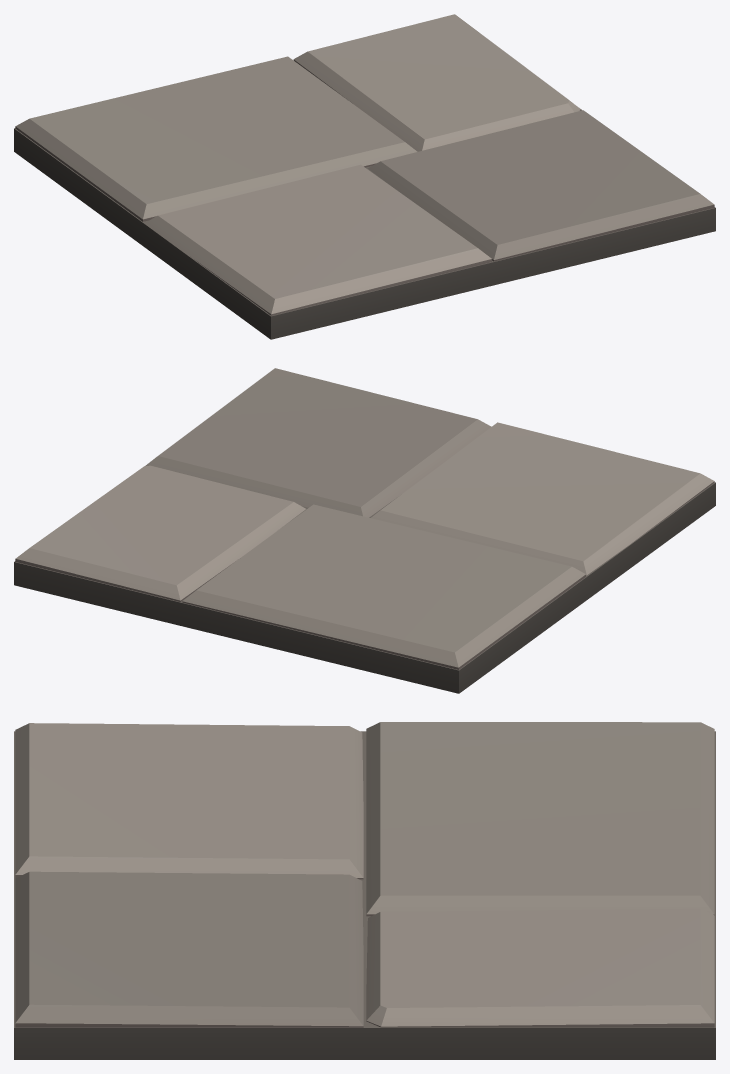
The model's file is floor_flagstones_small_A.glb.
The picture shows the model from 3 angles, top to bottom: view 1: azimuth 30°, elevation 25°; view 2: azimuth 150°, elevation 25°; view 3: azimuth 270°, elevation 25°; orthographic projection. The views are drawn at different scales.
Parts seen in each view (by area): view 1: Item; view 2: Item; view 3: Item.
Part boxes in pixels (box(x1,y1,x2,y2)): Item: box(14, 14, 715, 339); Item: box(14, 368, 715, 693); Item: box(14, 722, 715, 1059).
Size of the model in its own units: 2 by 0.153 by 2.
1 material, 1 textured.
